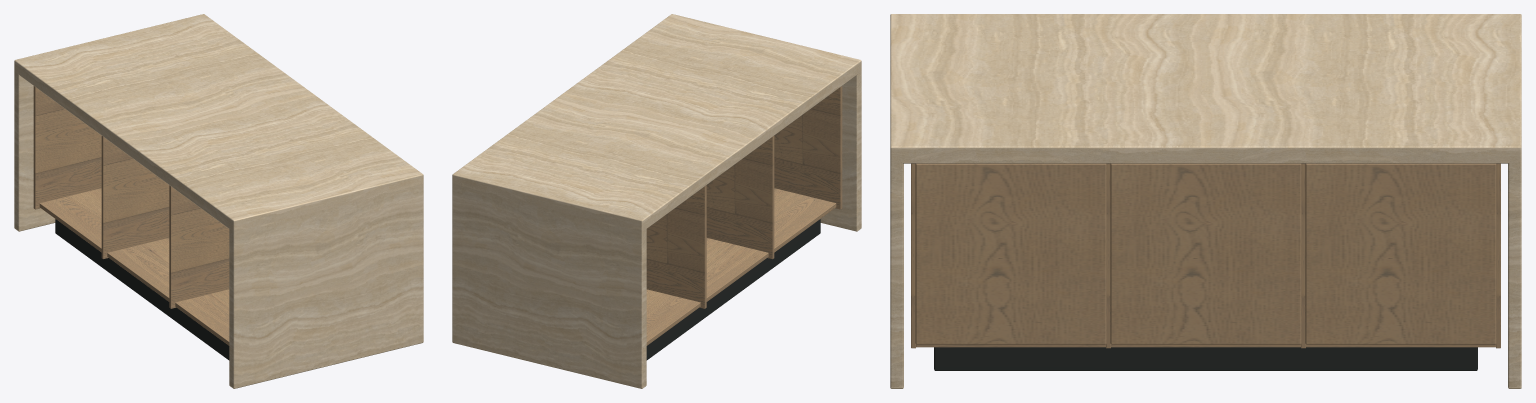
File: island_drawer_shell.glb
3 views of the same model, side by side, from view 1: azimuth 30°, elevation 25°; view 2: azimuth 150°, elevation 25°; view 3: azimuth 270°, elevation 25° (orthographic). The views are drawn at different scales.
Visible parts, largest first — view 1: Kitchen detail island stone top, Kitchen detail island waterfall end, island_internal_bottom, island_internal_divider_1.065, island_internal_divider_0.355, island_internal_divider_-0.355, Kitchen detail island waterfall end.001, Kitchen detail island plinth; view 2: Kitchen detail island stone top, Kitchen detail island waterfall end.001, island_internal_bottom, island_internal_divider_-1.065, island_internal_divider_-0.355, island_internal_divider_0.355, Kitchen detail island waterfall end, Kitchen detail island plinth; view 3: Kitchen detail island stone top, Kitchen detail island front, Kitchen detail island front.001, Kitchen detail island front.002, Kitchen detail island plinth, Kitchen detail island waterfall end.001, Kitchen detail island waterfall end, island_internal_back, island_internal_divider_1.065, island_internal_divider_-1.065, island_internal_divider_0.355, island_internal_divider_-0.355.
Boxes of the visible parts, bbox=[...] form: Kitchen detail island stone top: bbox=[14, 14, 423, 231]; Kitchen detail island waterfall end: bbox=[229, 180, 423, 388]; island_internal_bottom: bbox=[39, 188, 229, 345]; island_internal_divider_1.065: bbox=[33, 86, 101, 209]; island_internal_divider_0.355: bbox=[101, 136, 169, 259]; island_internal_divider_-0.355: bbox=[169, 185, 229, 308]; Kitchen detail island waterfall end.001: bbox=[14, 66, 55, 231]; Kitchen detail island plinth: bbox=[55, 219, 229, 360]; Kitchen detail island stone top: bbox=[452, 14, 861, 231]; Kitchen detail island waterfall end.001: bbox=[452, 181, 646, 388]; island_internal_bottom: bbox=[646, 188, 836, 345]; island_internal_divider_-1.065: bbox=[774, 86, 842, 209]; island_internal_divider_-0.355: bbox=[706, 136, 774, 259]; island_internal_divider_0.355: bbox=[646, 185, 706, 308]; Kitchen detail island waterfall end: bbox=[820, 71, 861, 231]; Kitchen detail island plinth: bbox=[646, 219, 820, 360]; Kitchen detail island stone top: bbox=[890, 14, 1521, 163]; Kitchen detail island front: bbox=[915, 163, 1106, 344]; Kitchen detail island front.001: bbox=[1110, 163, 1301, 344]; Kitchen detail island front.002: bbox=[1305, 163, 1496, 344]; Kitchen detail island plinth: bbox=[934, 347, 1477, 370]; Kitchen detail island waterfall end.001: bbox=[1508, 155, 1521, 388]; Kitchen detail island waterfall end: bbox=[890, 155, 903, 388]; island_internal_back: bbox=[916, 344, 1495, 347]; island_internal_divider_1.065: bbox=[1496, 163, 1500, 348]; island_internal_divider_-1.065: bbox=[911, 163, 915, 348]; island_internal_divider_0.355: bbox=[1301, 163, 1305, 348]; island_internal_divider_-0.355: bbox=[1106, 163, 1110, 348].
Size of the model in its own units: 1.15 by 0.975 by 2.3.
3 materials, 2 textured.
